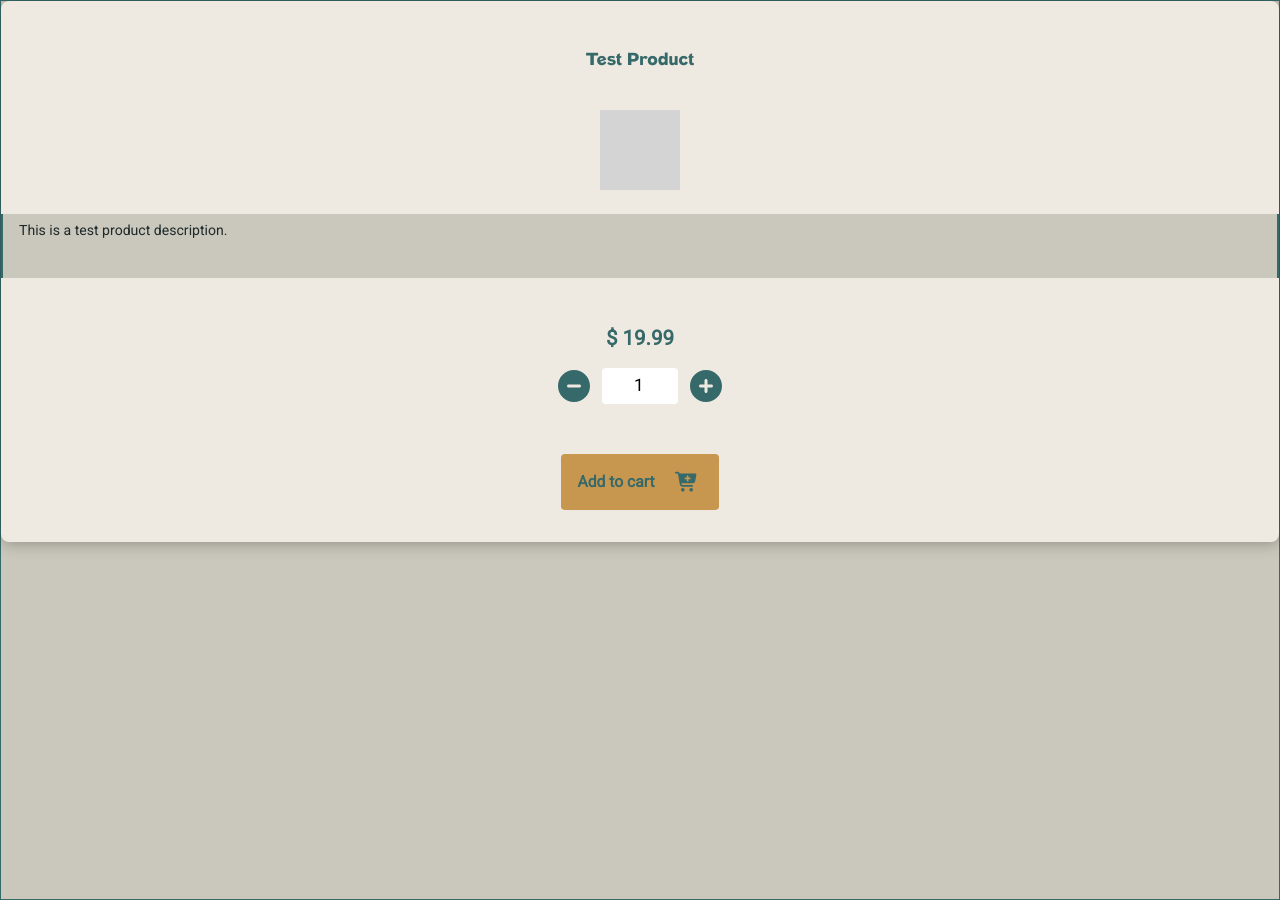
ProductCard › resets quantity to 1 after adding product to cart
Click the button named "increase quantity": (706, 386) [686,366,726,406]
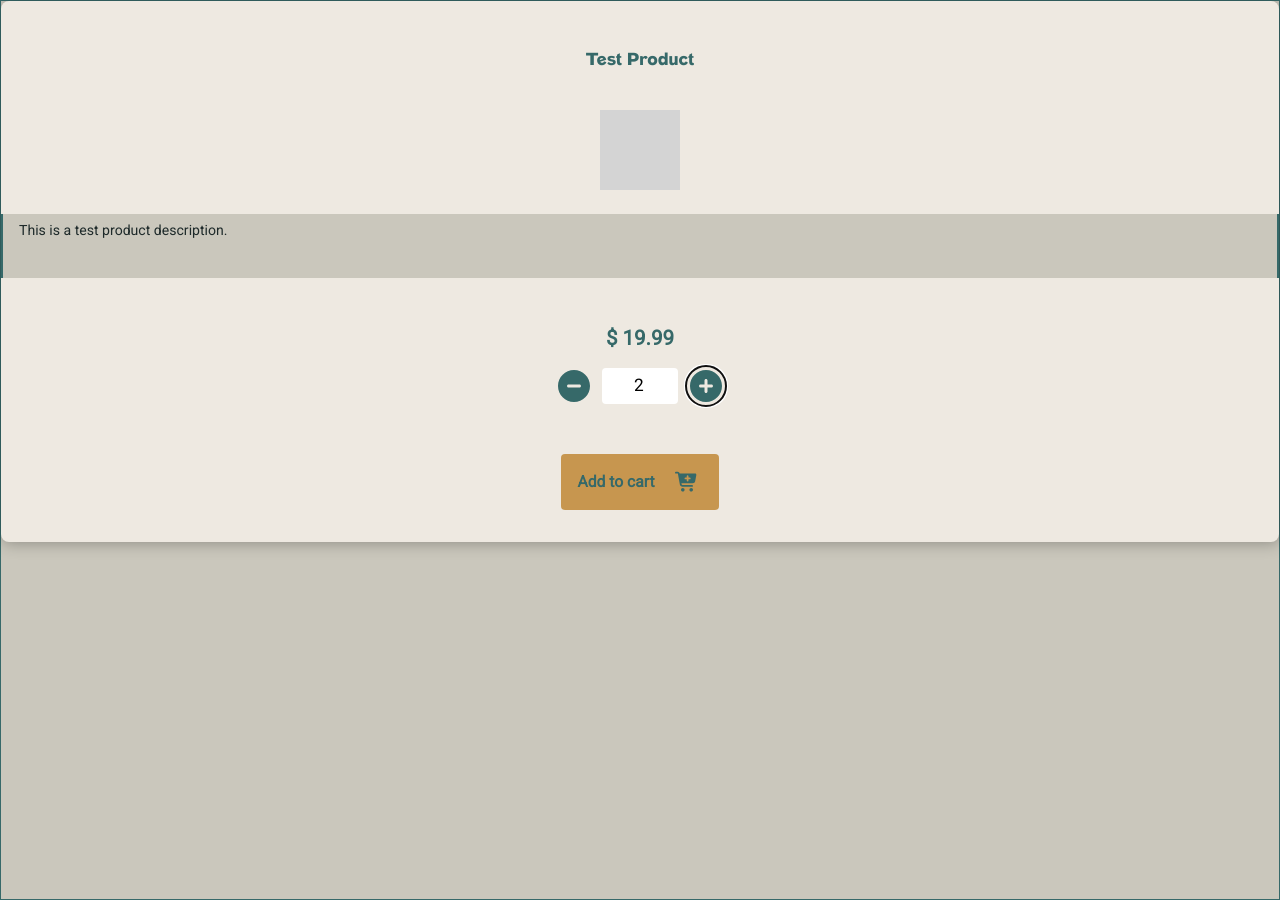
Click the button named "increase quantity": (706, 386) [686,366,726,406]
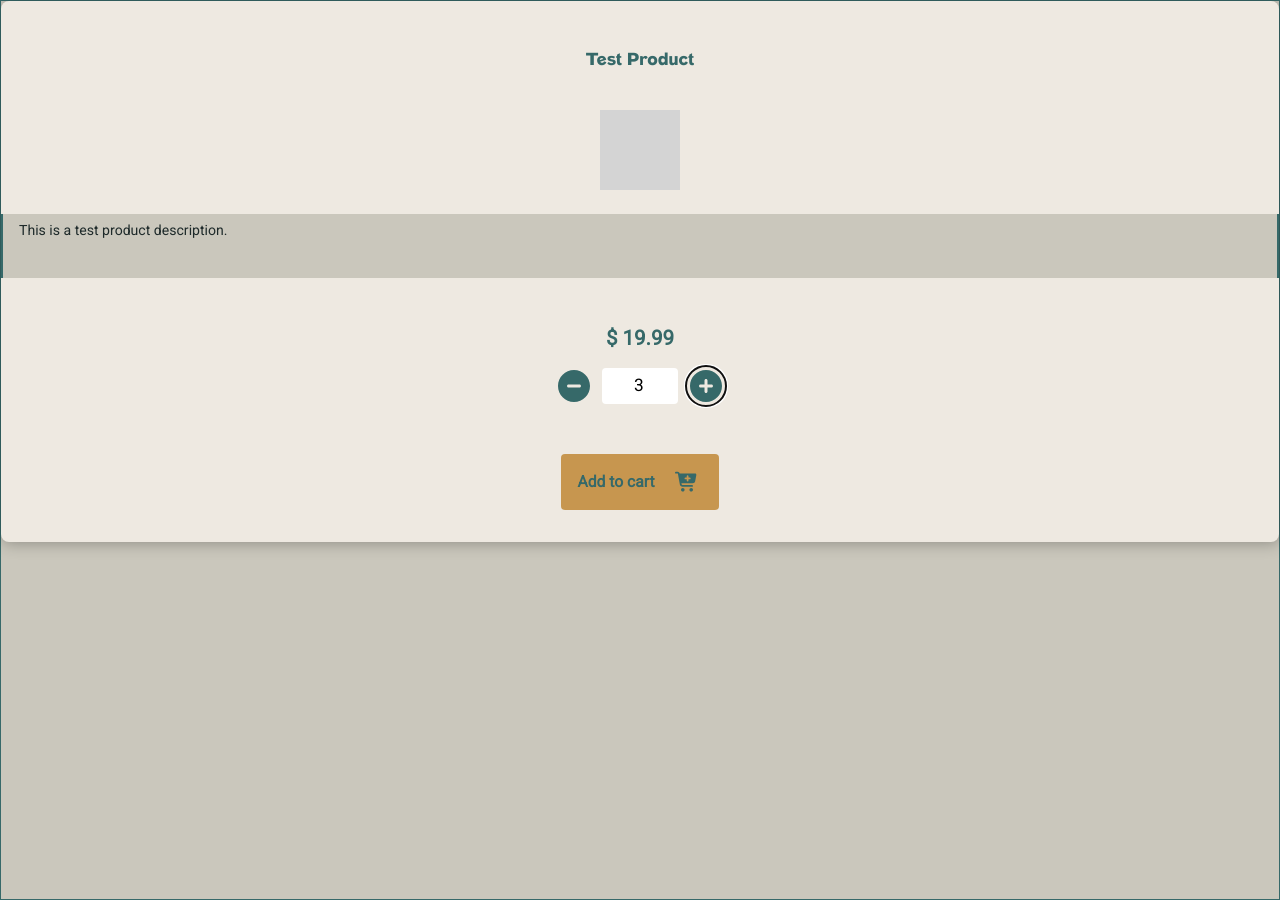
Expected: the number field named "quantity" holds "3", [602,368,678,404]
Click the button "Add to cart": (640, 482) [561,454,718,510]
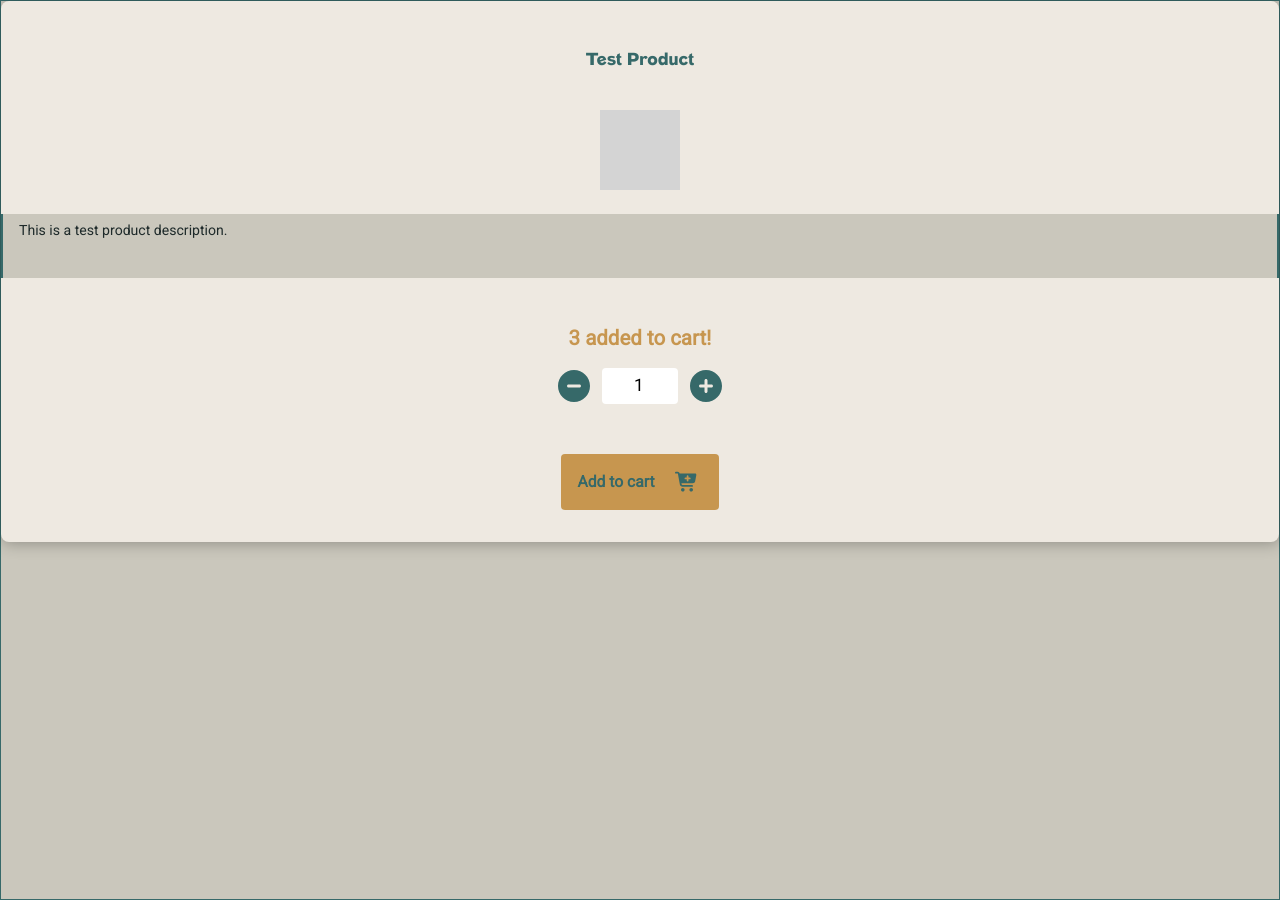
Expected: the number field named "quantity" holds "1", [602,368,678,404]
